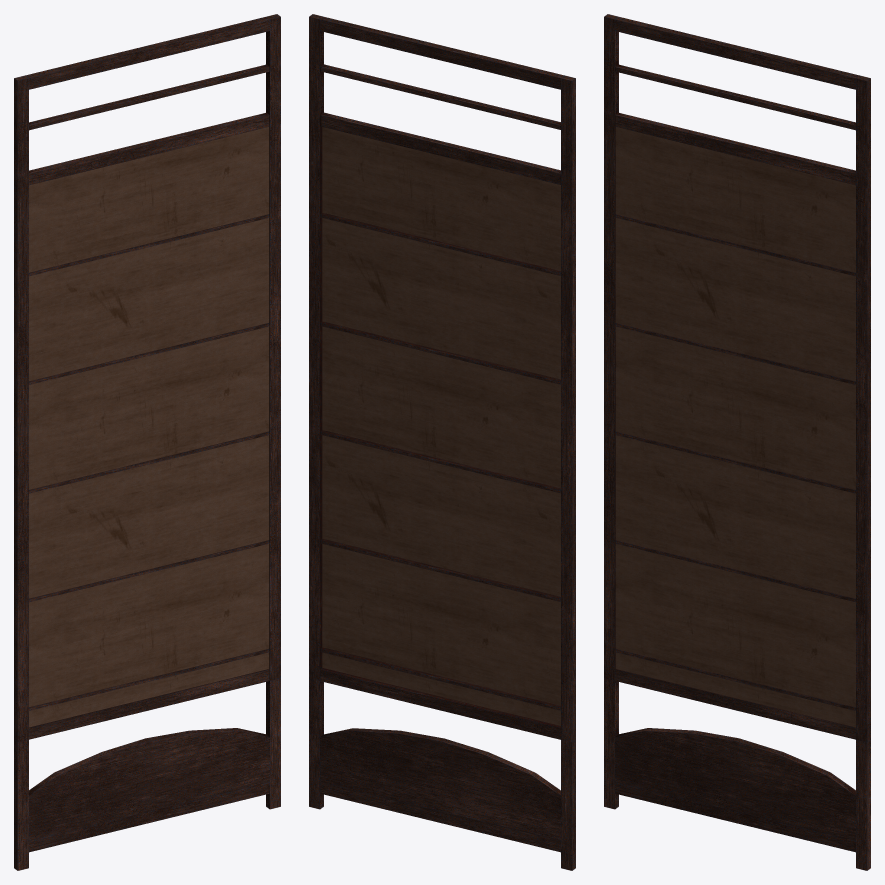
The picture shows the model from 3 angles, left to right: view 1: azimuth 30°, elevation 25°; view 2: azimuth 150°, elevation 25°; view 3: azimuth 330°, elevation 25°; orthographic projection.
Parts seen in each view (by area): view 1: 平面.009; view 2: 平面.009; view 3: 平面.009.
Boxes of the visible parts, <box> form: 平面.009: <box>14,14,280,870</box>; 平面.009: <box>309,14,575,870</box>; 平面.009: <box>604,14,870,870</box>.
Size of the model in its own units: 43.63 by 125 by 1.11.
